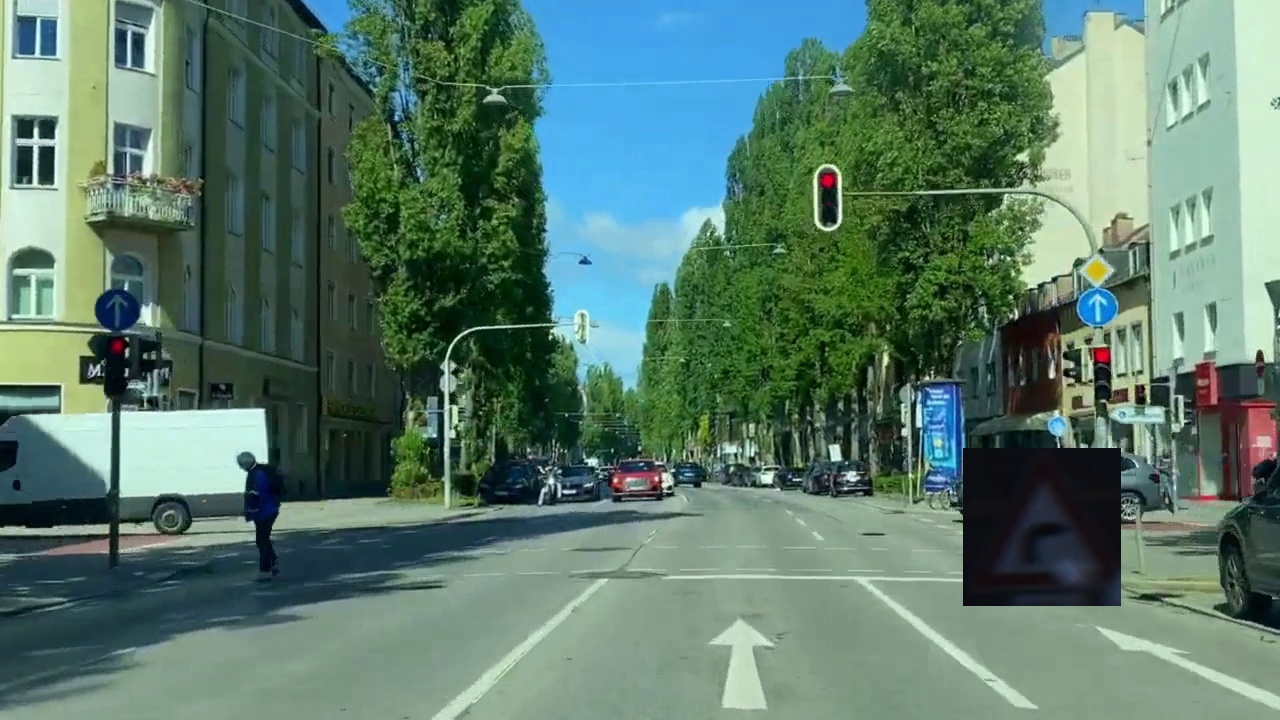Curve right: (963, 448, 1121, 606)
